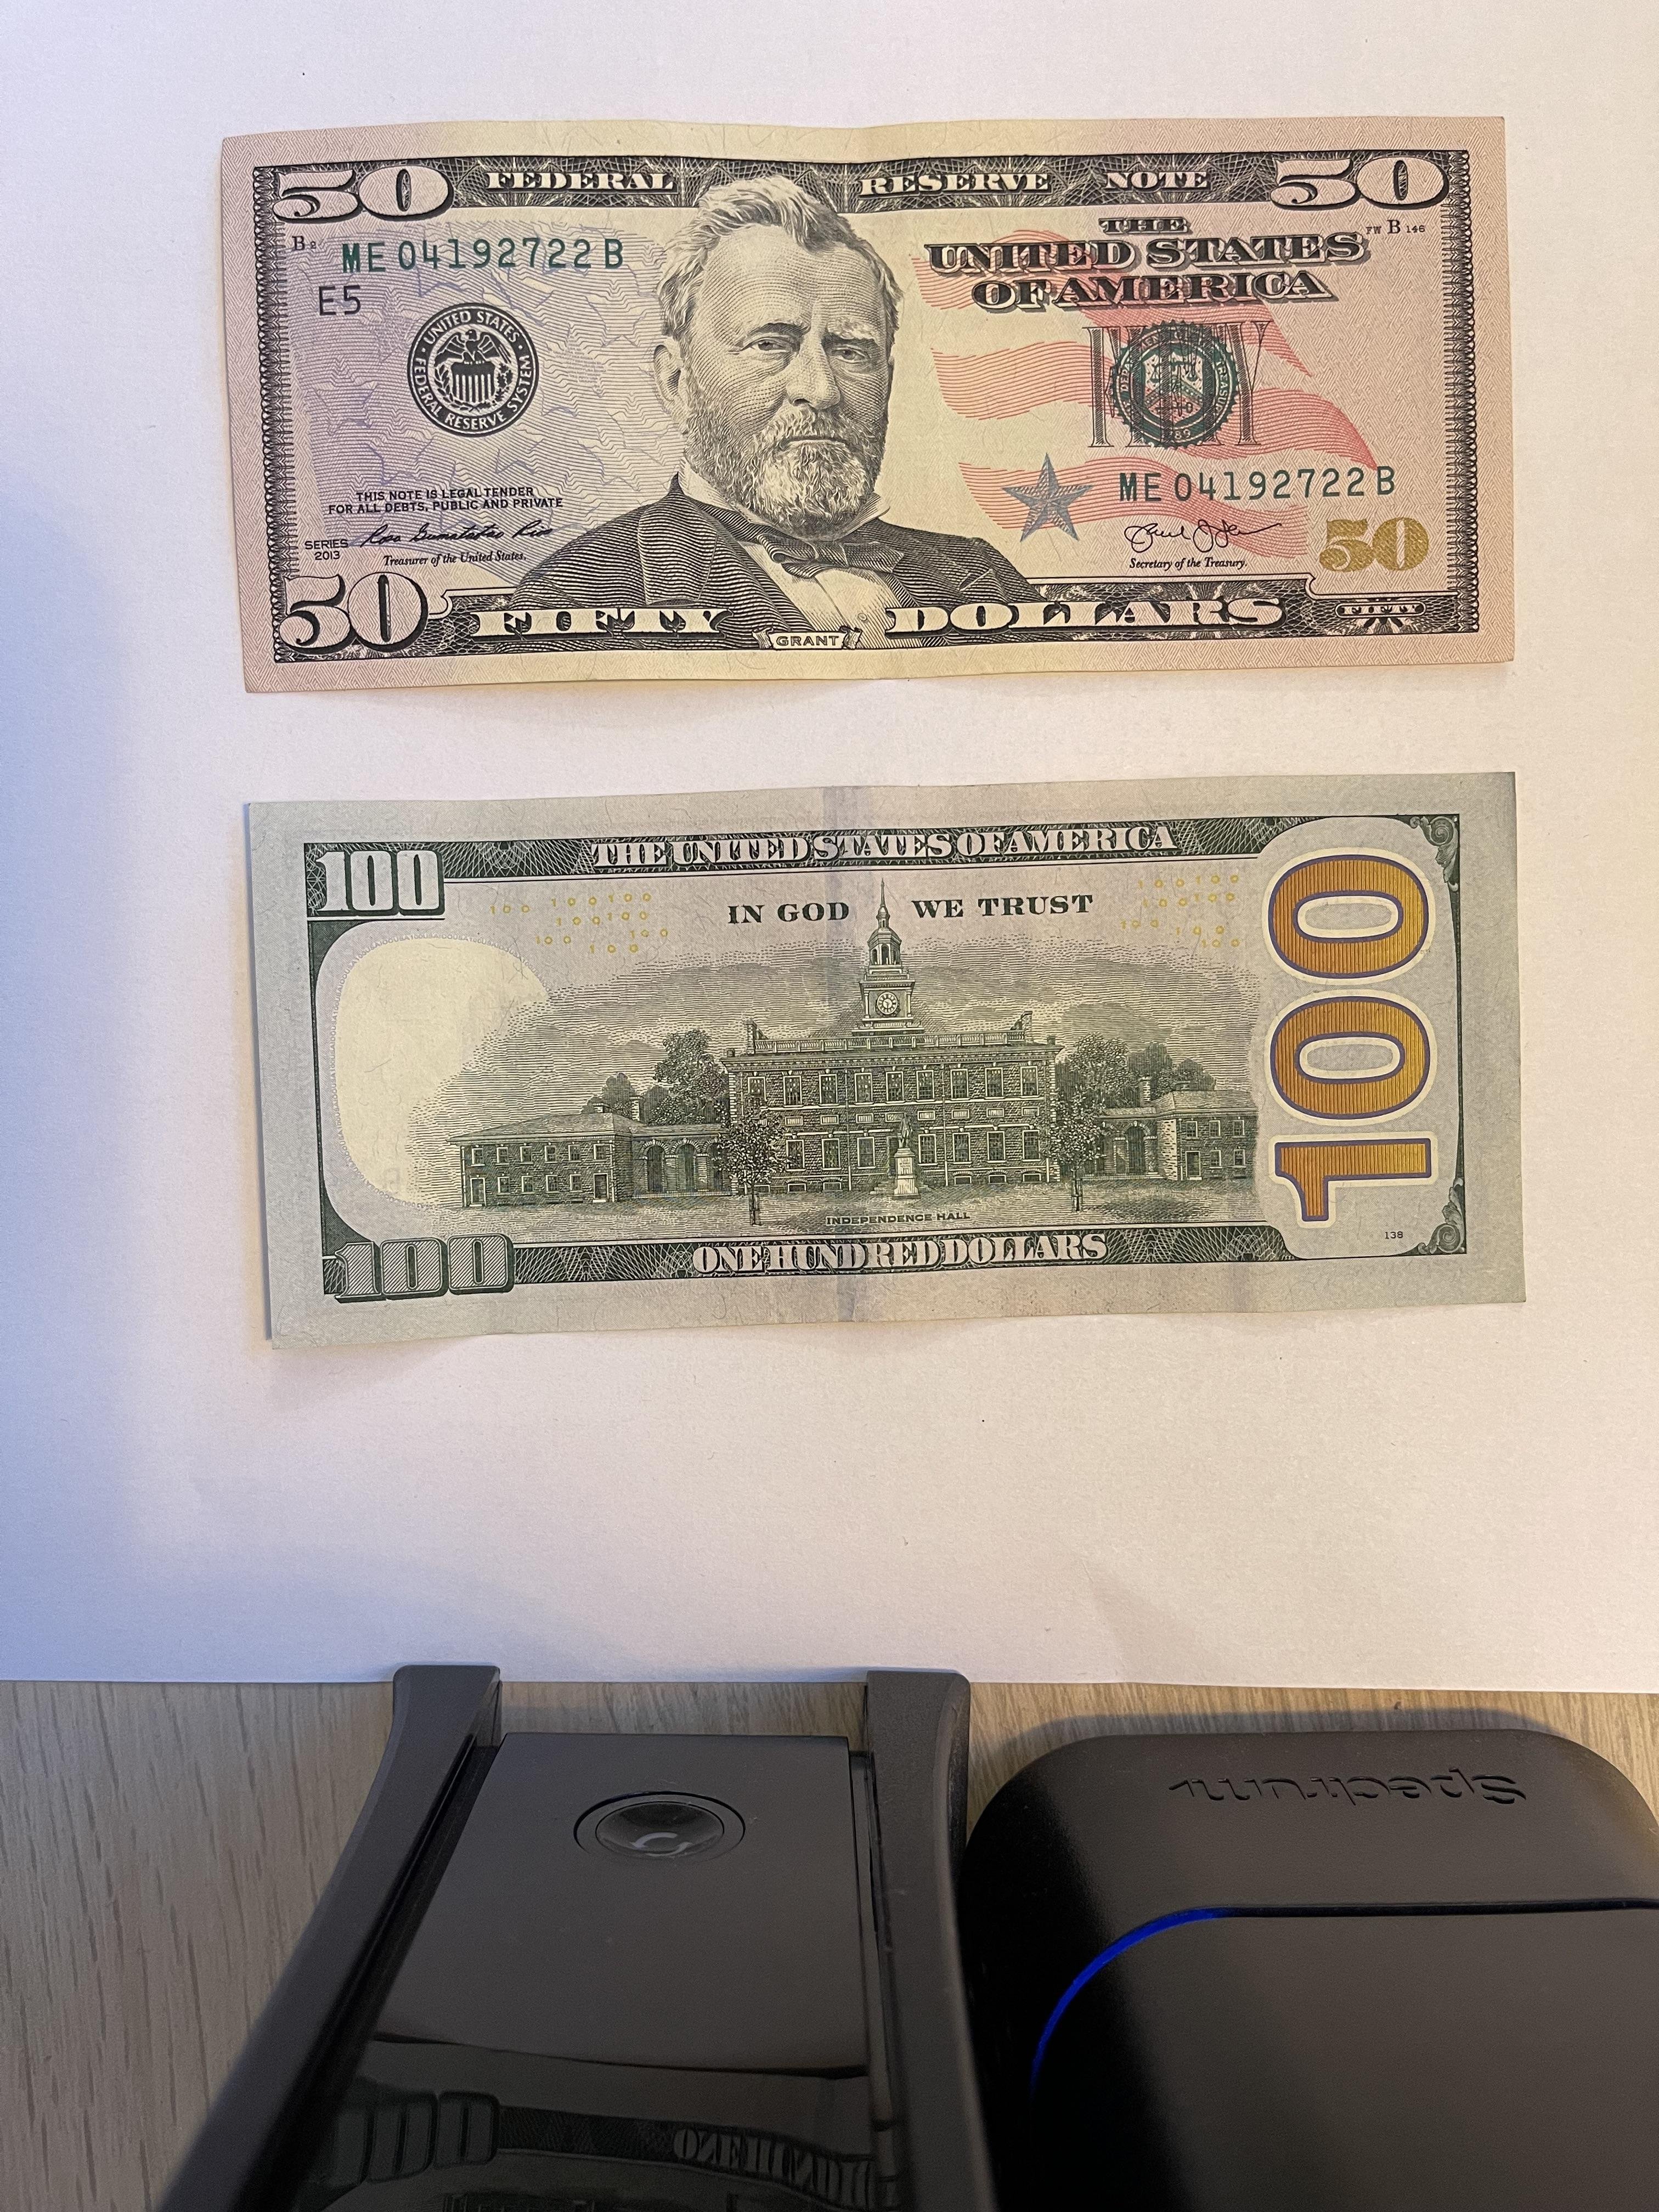FiftyBill: (216, 115, 1518, 697)
HundredBill: (244, 770, 1528, 1350)
